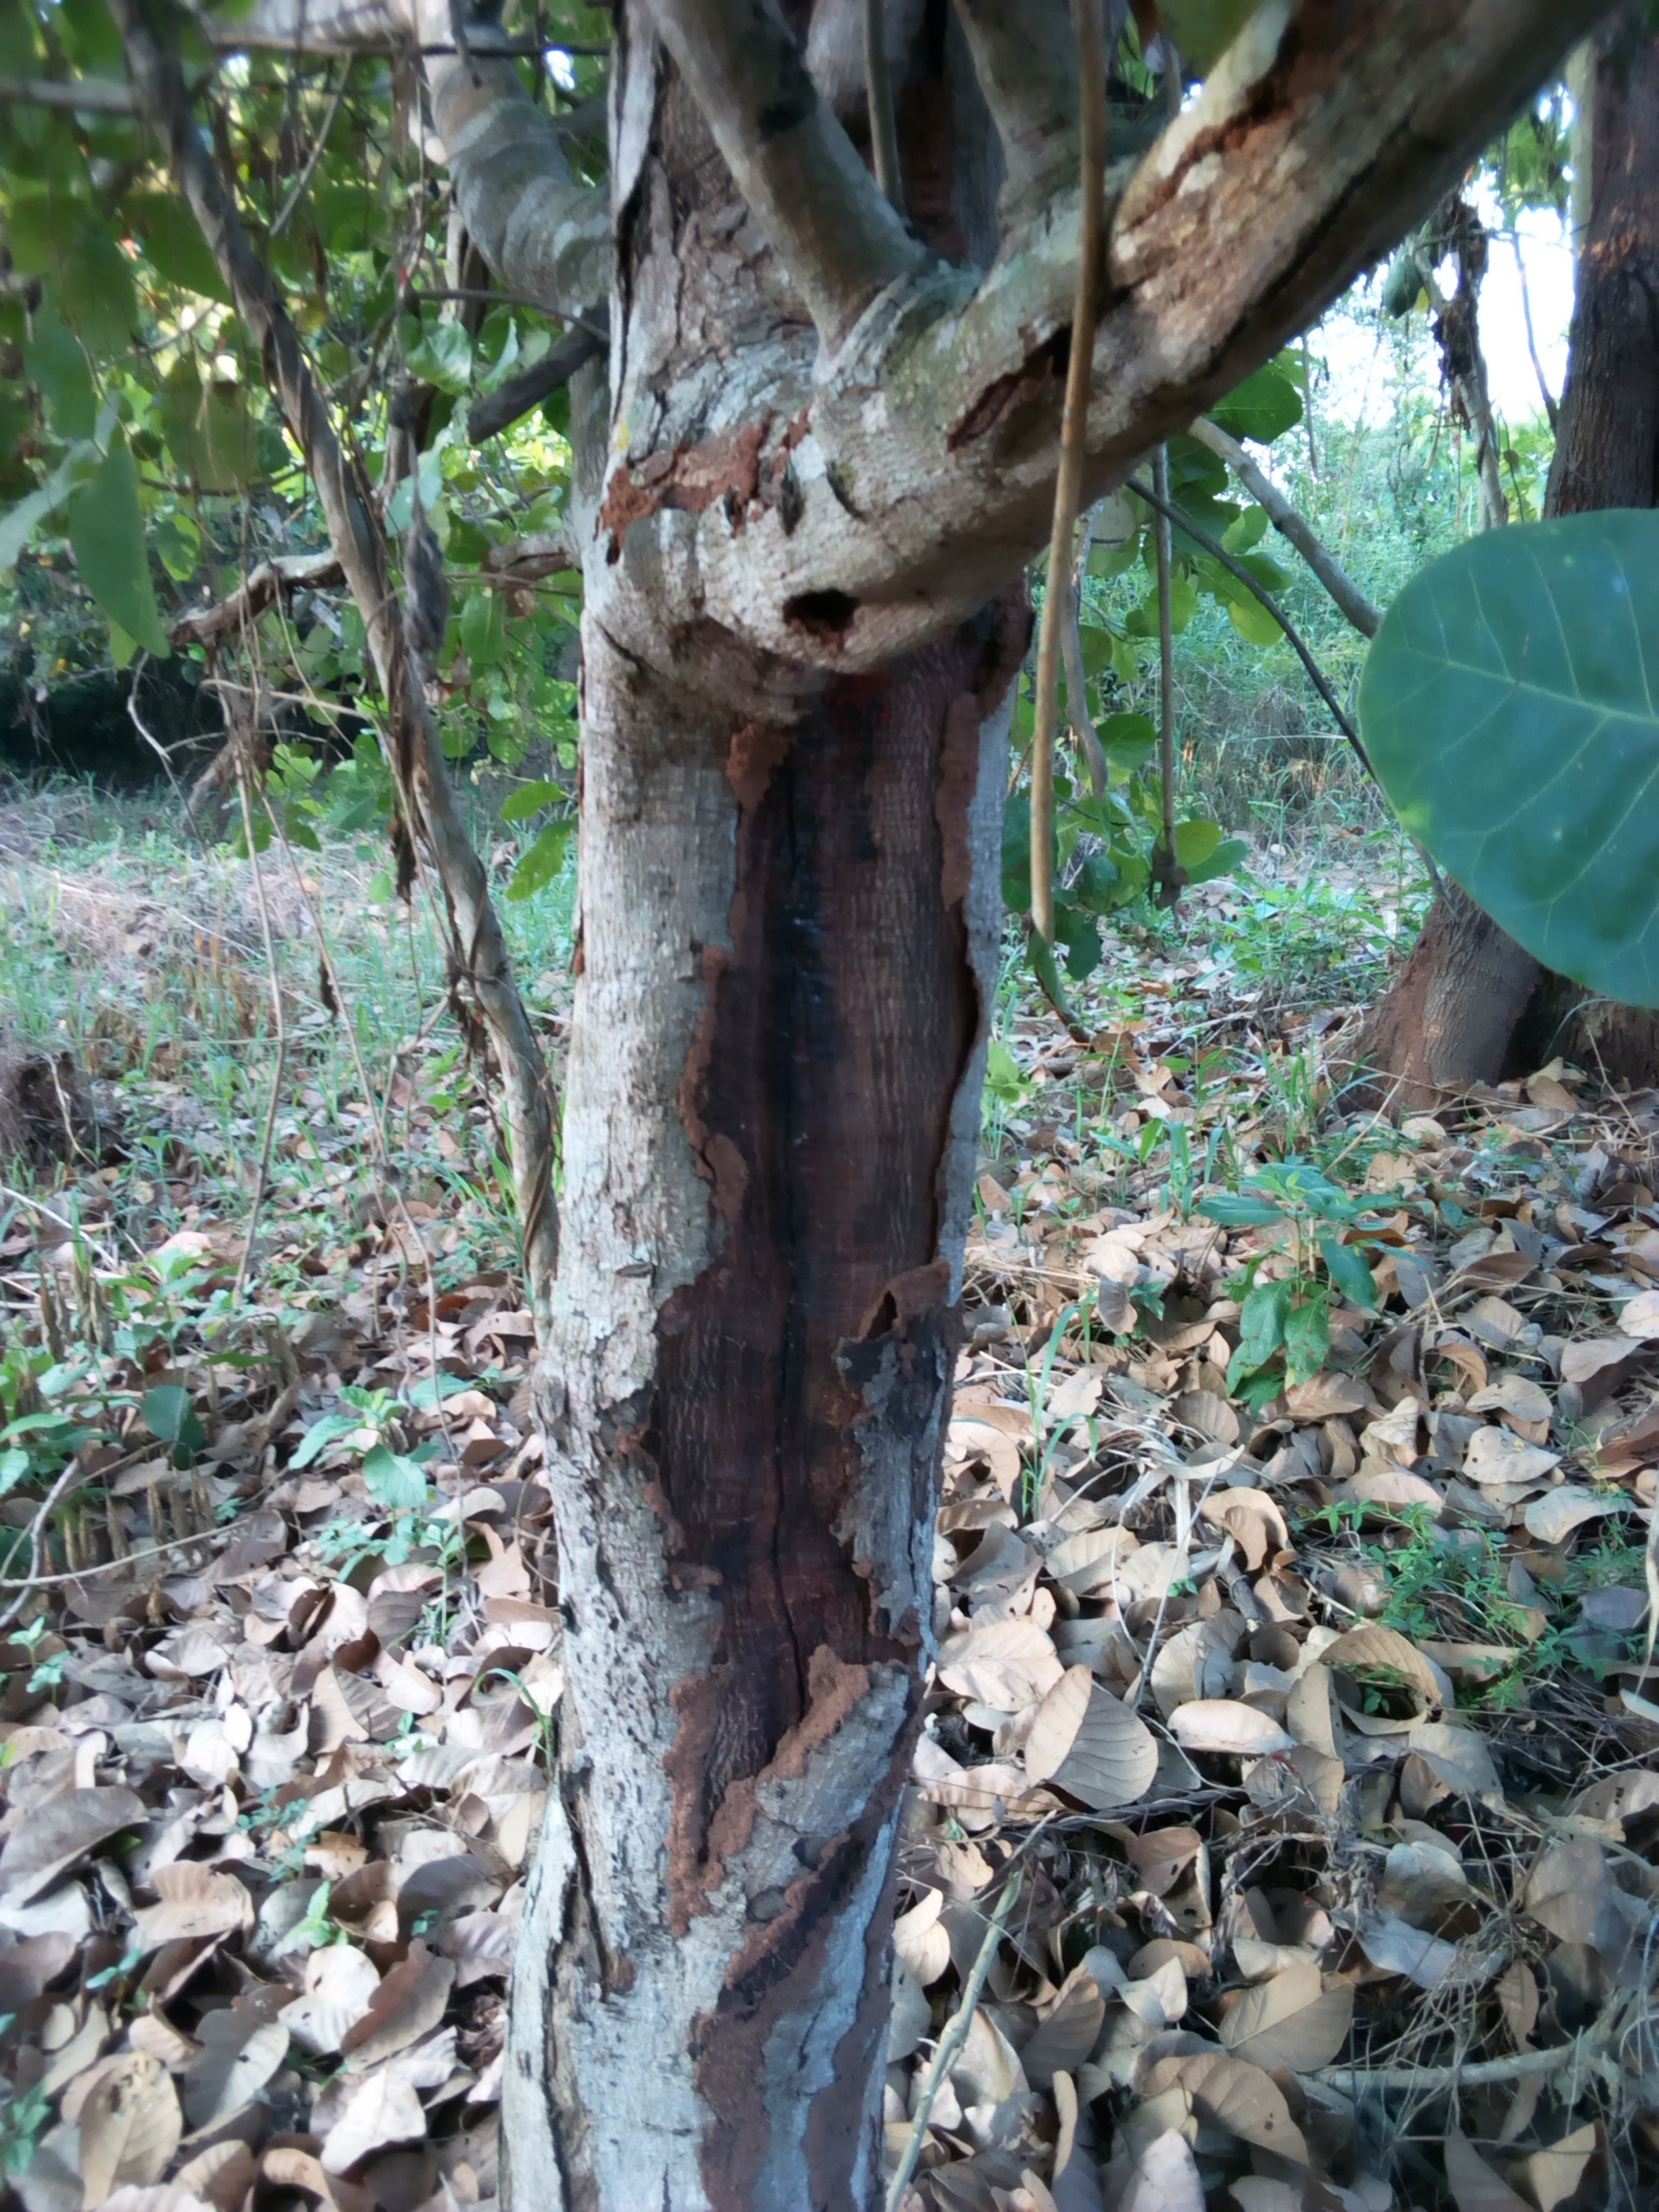Termites: (660, 709, 972, 2212), (593, 371, 812, 568)
